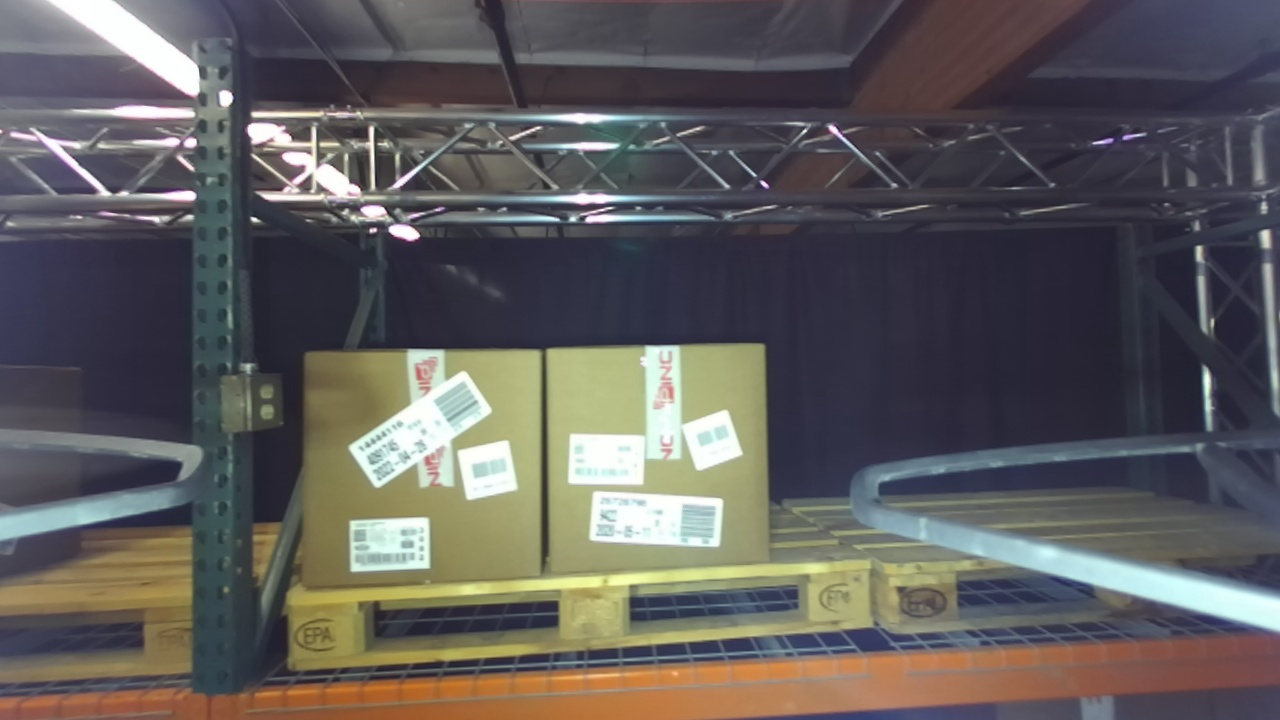box: (263, 306, 564, 626), (521, 318, 798, 602)
